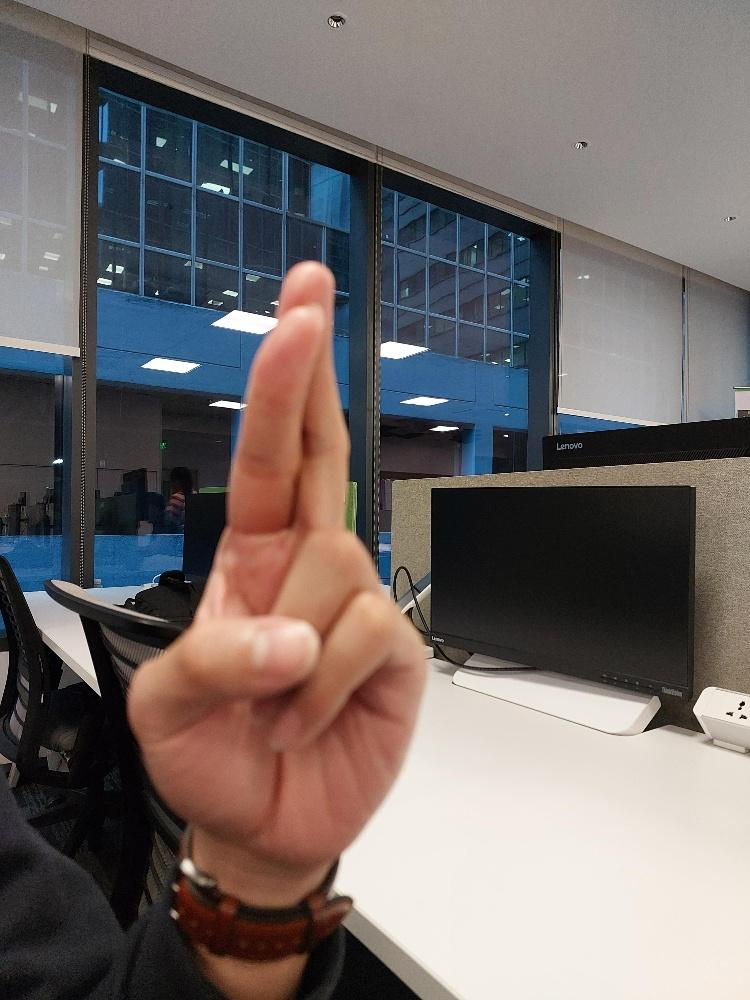r: (125, 260, 427, 864)
